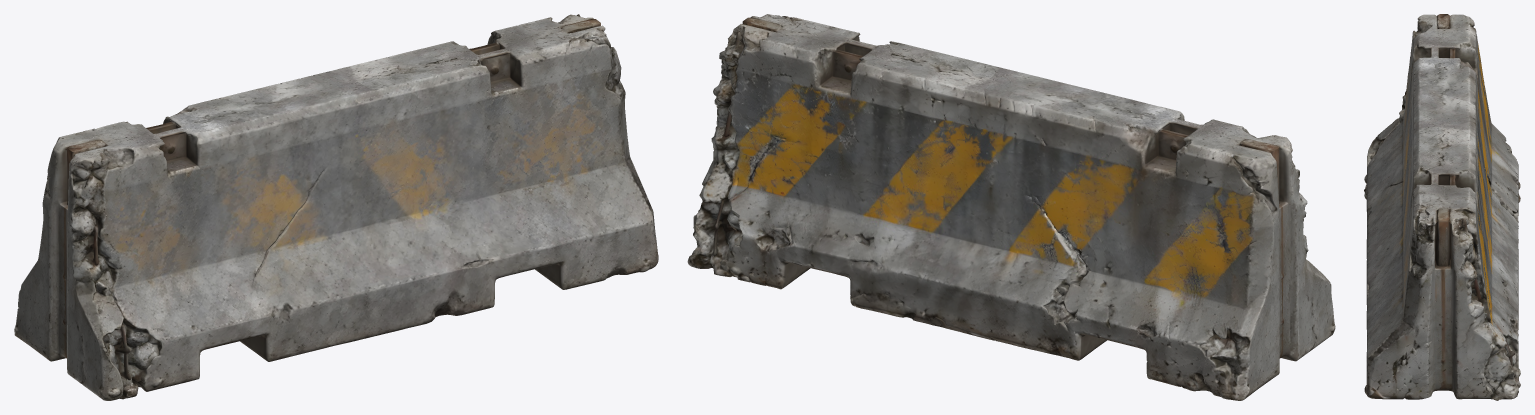
The model's file is road-barricade-v1.glb.
3 views of the same model, side by side, from view 1: azimuth 30°, elevation 25°; view 2: azimuth 150°, elevation 25°; view 3: azimuth 270°, elevation 25° (orthographic). The views are drawn at different scales.
Parts seen in each view (by area): view 1: tripo_node_e15a02c1-3f94-45b5-8453-f91b14702320; view 2: tripo_node_e15a02c1-3f94-45b5-8453-f91b14702320; view 3: tripo_node_e15a02c1-3f94-45b5-8453-f91b14702320.
Boxes of the visible parts, box(x1,y1,x2,y2) form: tripo_node_e15a02c1-3f94-45b5-8453-f91b14702320: box(14, 14, 658, 400); tripo_node_e15a02c1-3f94-45b5-8453-f91b14702320: box(687, 14, 1335, 400); tripo_node_e15a02c1-3f94-45b5-8453-f91b14702320: box(1364, 14, 1520, 400).
Size of the model in its own units: 0.9791 by 0.3653 by 0.2966.
Materials: 1 (1 with a texture image).
